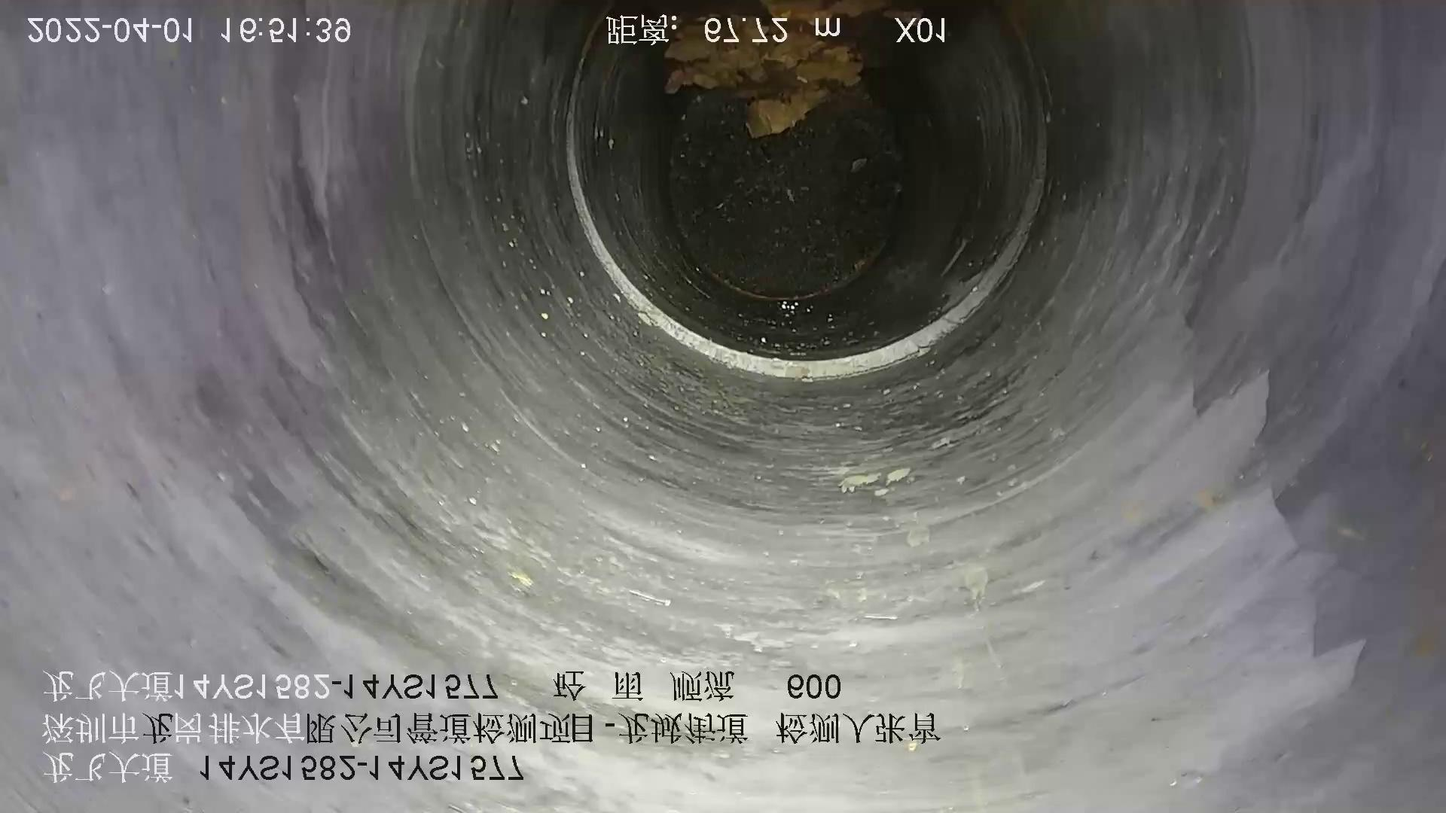CJ: (643, 1, 914, 138)
CKTJ: (563, 20, 1049, 382)
